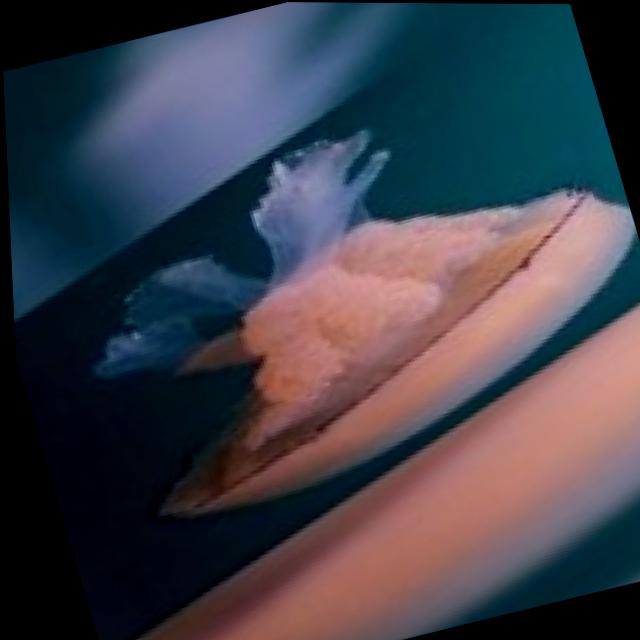Moon-jellyfish: (34, 62, 640, 536)
